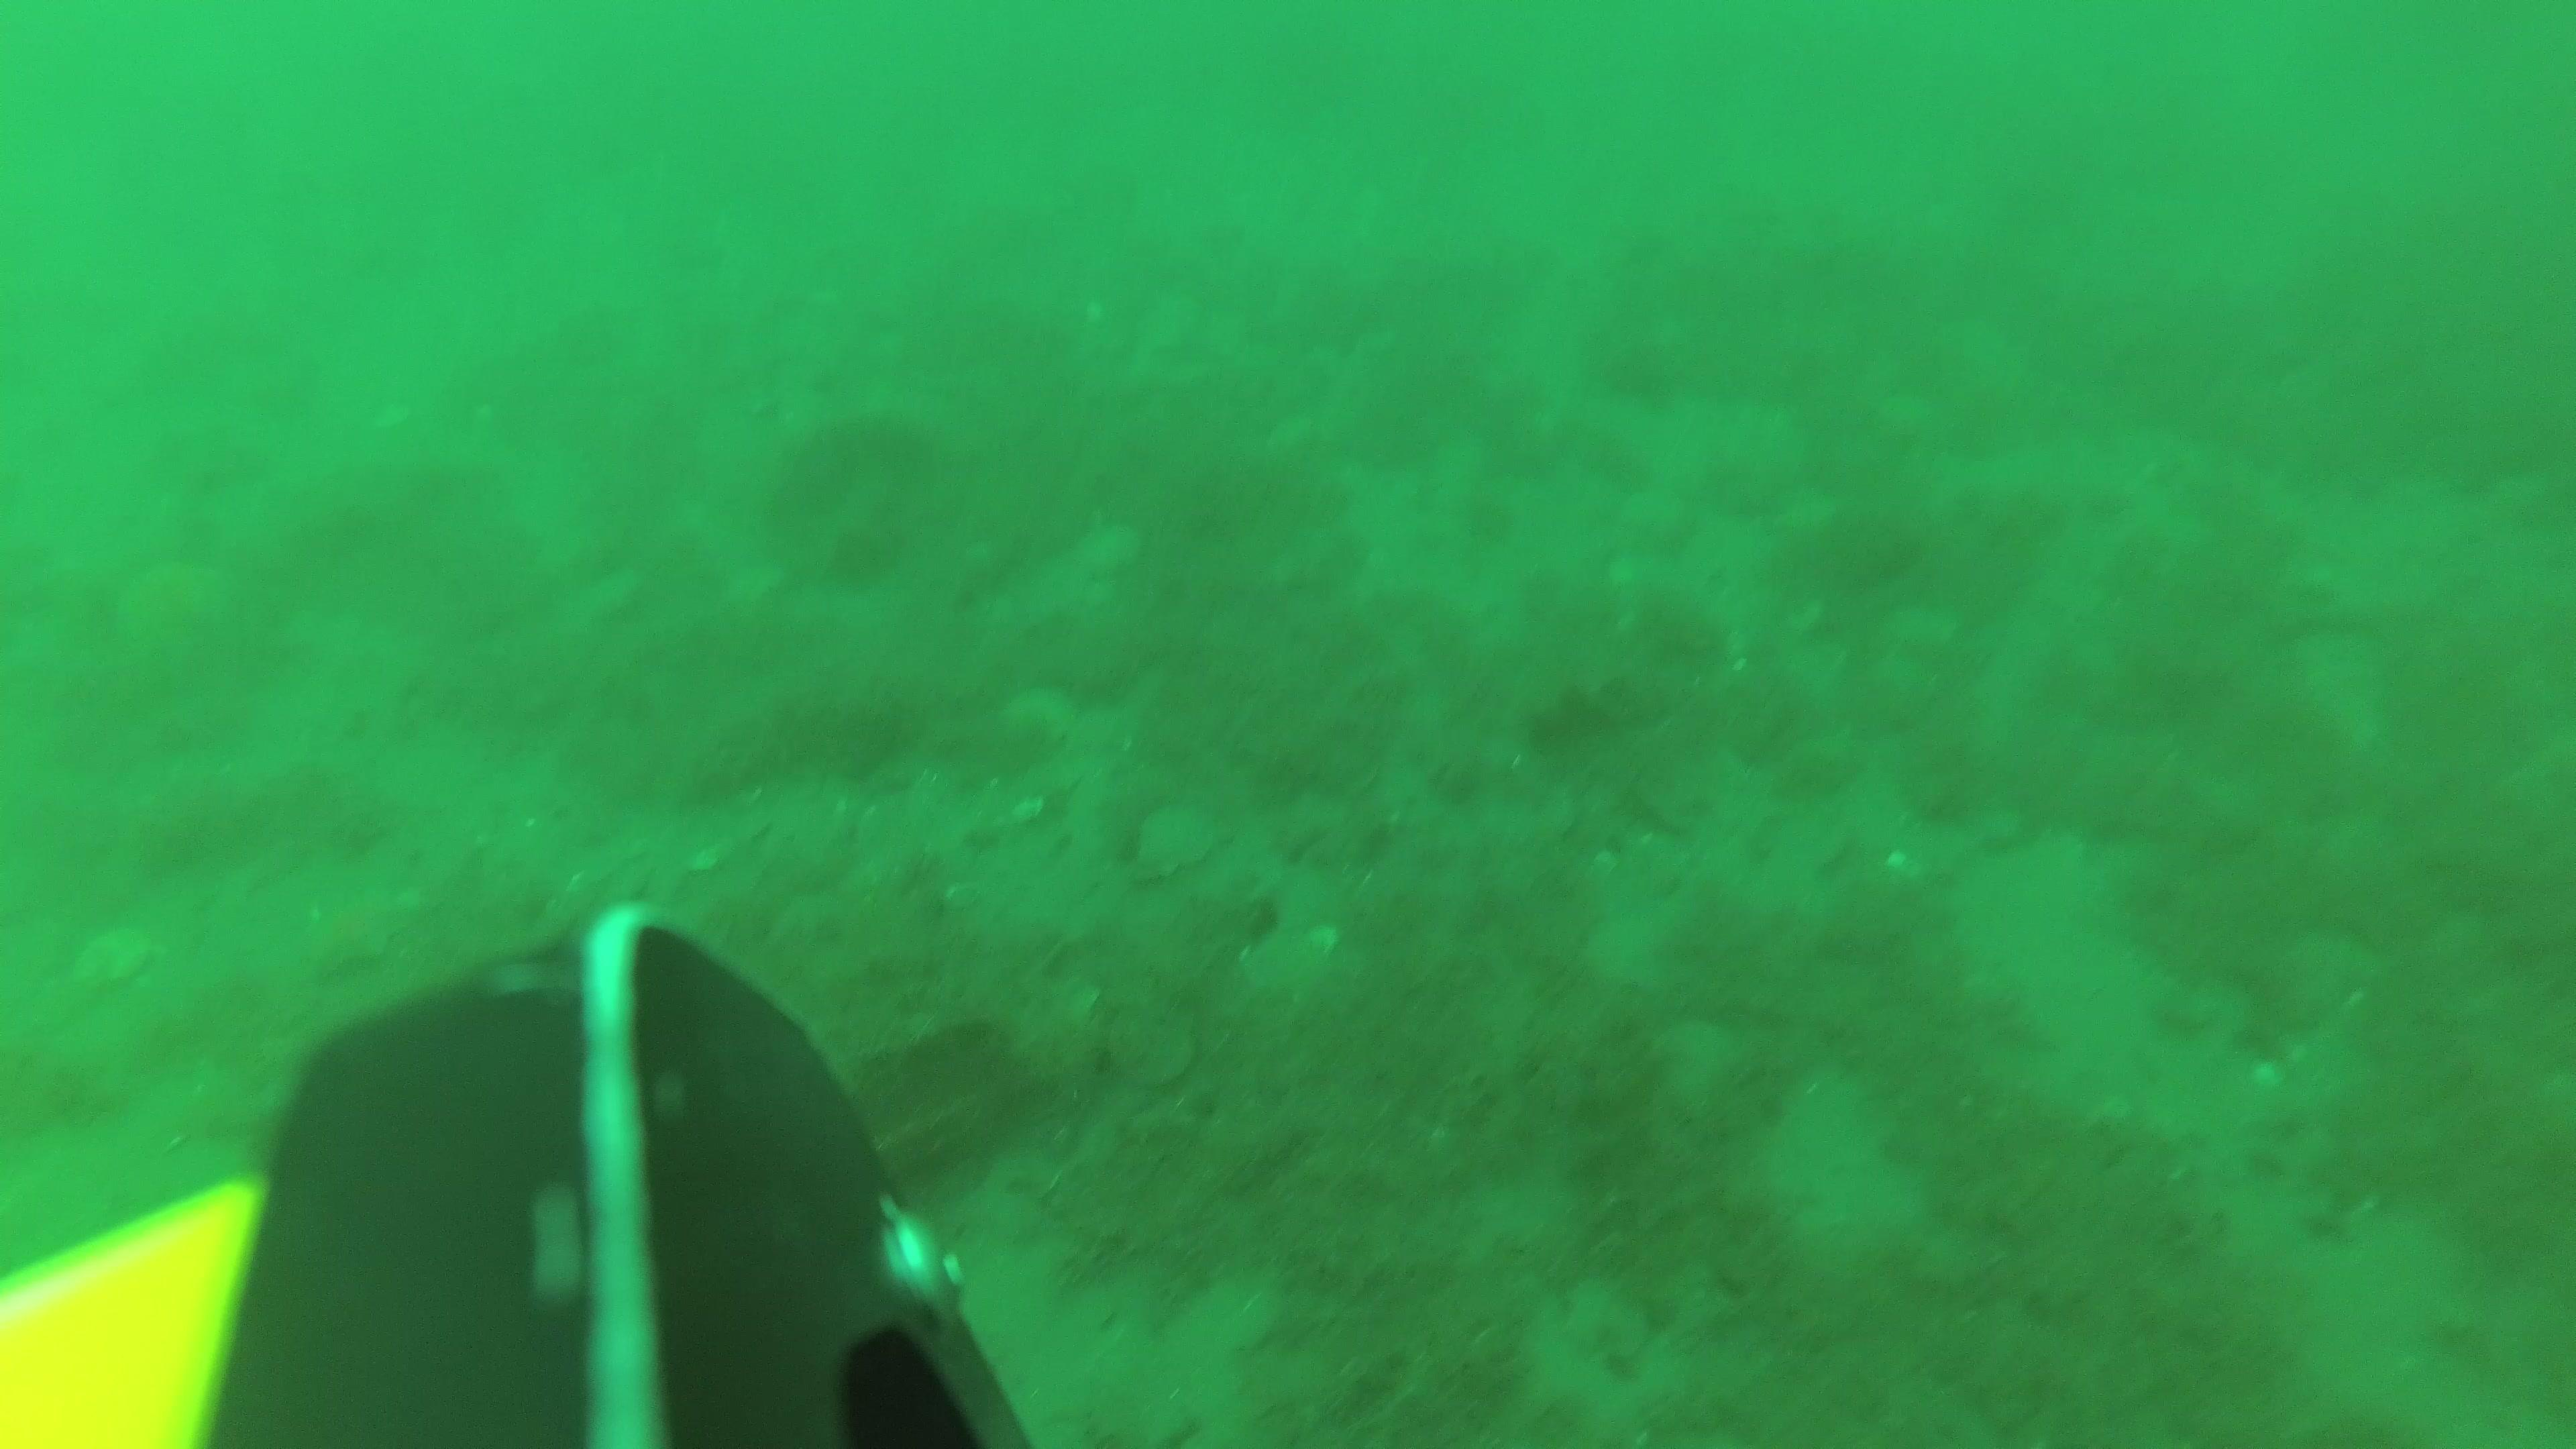scallop: (1088, 1329, 1238, 1437), (1108, 996, 1203, 1088), (1185, 1263, 1281, 1348), (1131, 801, 1221, 890)
starfish: (108, 547, 257, 658)
